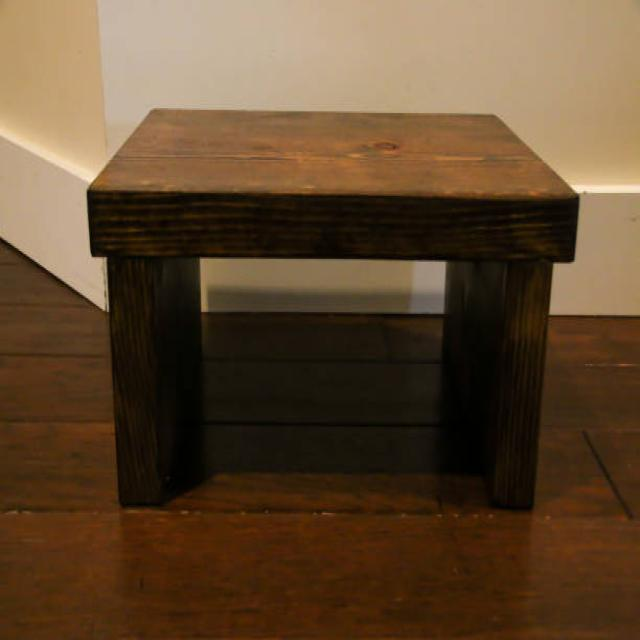table: (86, 104, 580, 512)
